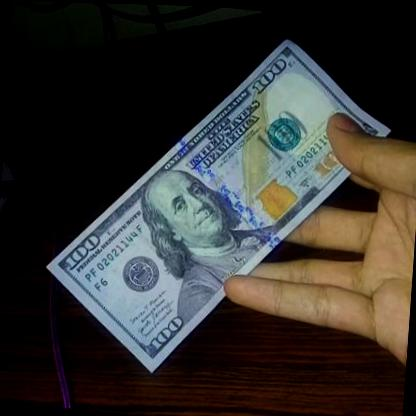one_hundred-front: (33, 11, 400, 397)
